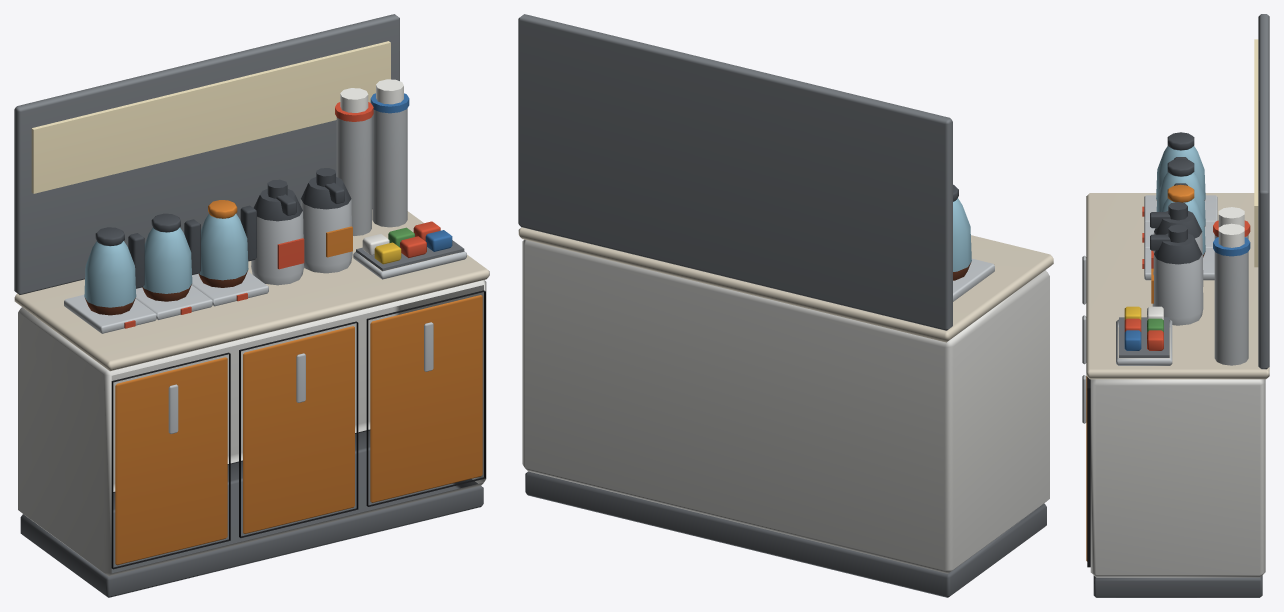
File: CoffeeStation_15.glb
3 renders of one model, left to right at view 1: azimuth 30°, elevation 25°; view 2: azimuth 150°, elevation 25°; view 3: azimuth 270°, elevation 25°, orthographic. The views are drawn at different scales.
Parts seen in each view (by area): view 1: SM_CoffeeStation_15; view 2: SM_CoffeeStation_15; view 3: SM_CoffeeStation_15.
Boxes of the visible parts, box(x1,y1,x2,y2) form: SM_CoffeeStation_15: box(14, 14, 489, 597); SM_CoffeeStation_15: box(518, 14, 1053, 597); SM_CoffeeStation_15: box(1082, 14, 1269, 597).
Bounding box in the file's own units: 1.5 × 1.6 × 0.665.
1 material, 1 textured.
